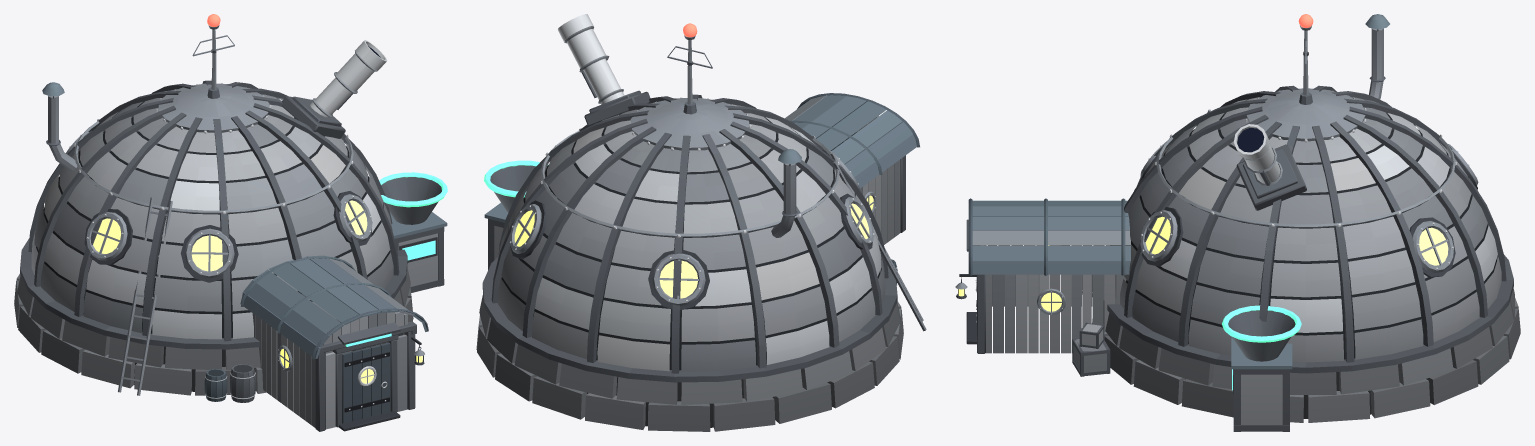
Rendered from habitat.glb.
3 views of the same model, side by side, from view 1: azimuth 30°, elevation 25°; view 2: azimuth 150°, elevation 25°; view 3: azimuth 270°, elevation 25° (orthographic). The views are drawn at different scales.
Parts seen in each view (by area): view 1: hab_main; view 2: hab_main; view 3: hab_main.
Part boxes in pixels (x1,y1,x2,y2): hab_main: [14, 25, 447, 431]; hab_main: [476, 14, 926, 431]; hab_main: [955, 14, 1520, 431].
Size of the model in its own units: 12.8 by 9.5 by 15.33.
